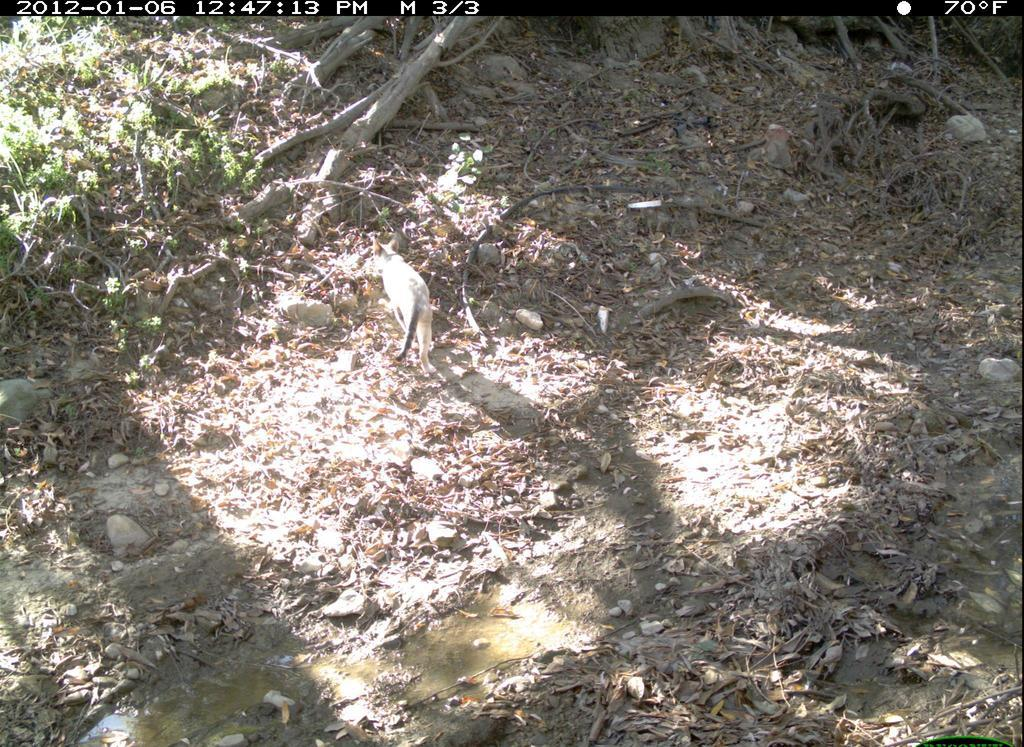cat: (365, 235, 460, 379)
